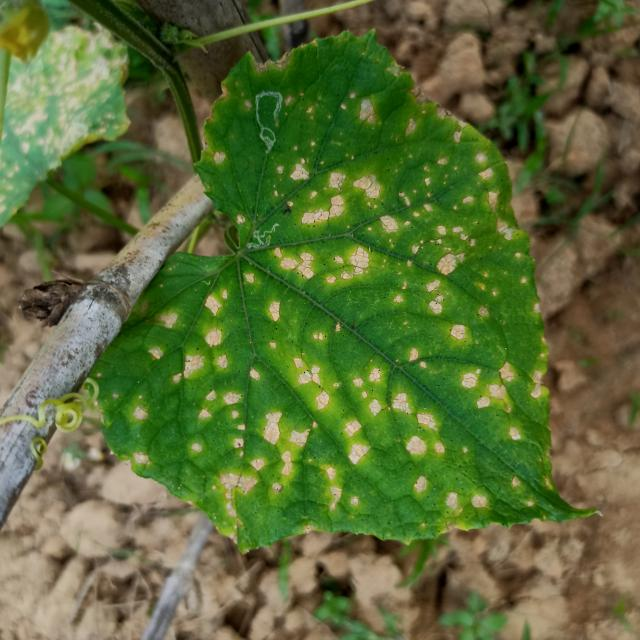disease_cucumber: (140, 67, 537, 548)
